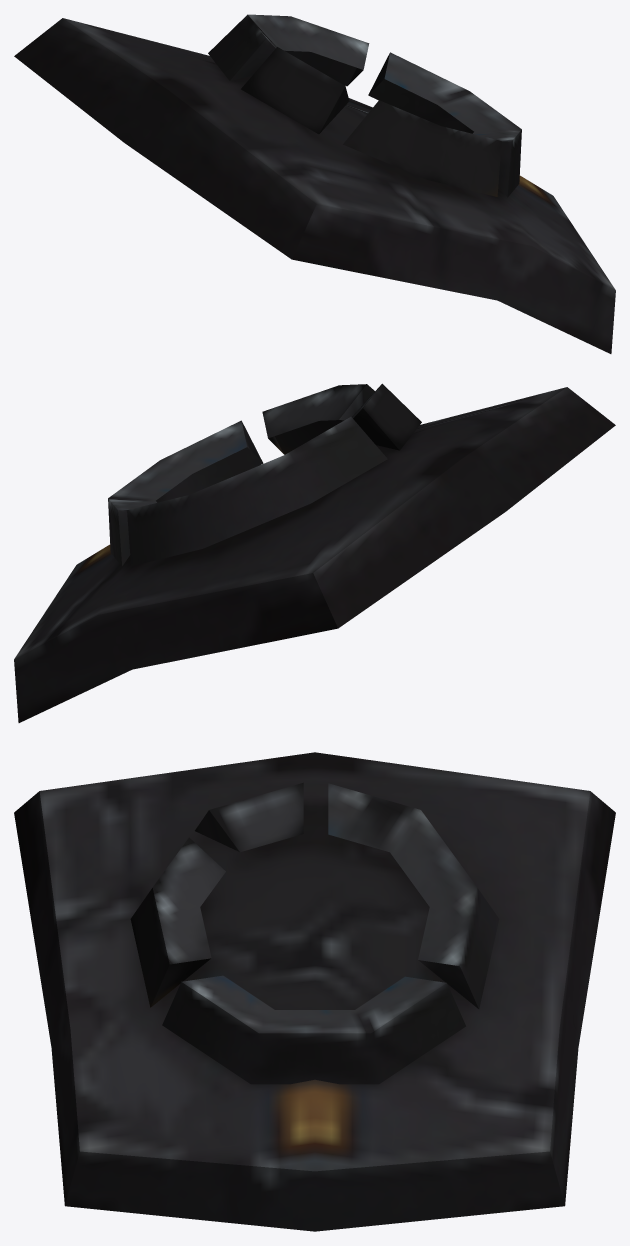
Rendered from RV_baonujijia_0_part4_broken.FBX.
The picture shows the model from 3 angles, top to bottom: view 1: azimuth 30°, elevation 25°; view 2: azimuth 150°, elevation 25°; view 3: azimuth 270°, elevation 25°; orthographic projection. The views are drawn at different scales.
Parts seen in each view (by area): view 1: RV_baonujijia_0_part4_broken; view 2: RV_baonujijia_0_part4_broken; view 3: RV_baonujijia_0_part4_broken.
Boxes of the visible parts, x1,y1,x2,y2 form: RV_baonujijia_0_part4_broken: (14,14,615,353); RV_baonujijia_0_part4_broken: (14,383,615,722); RV_baonujijia_0_part4_broken: (14,752,615,1231).
Bounding box in the file's own units: 0.9491 × 0.5956 × 1.06.
Materials: 1 (1 with a texture image).
